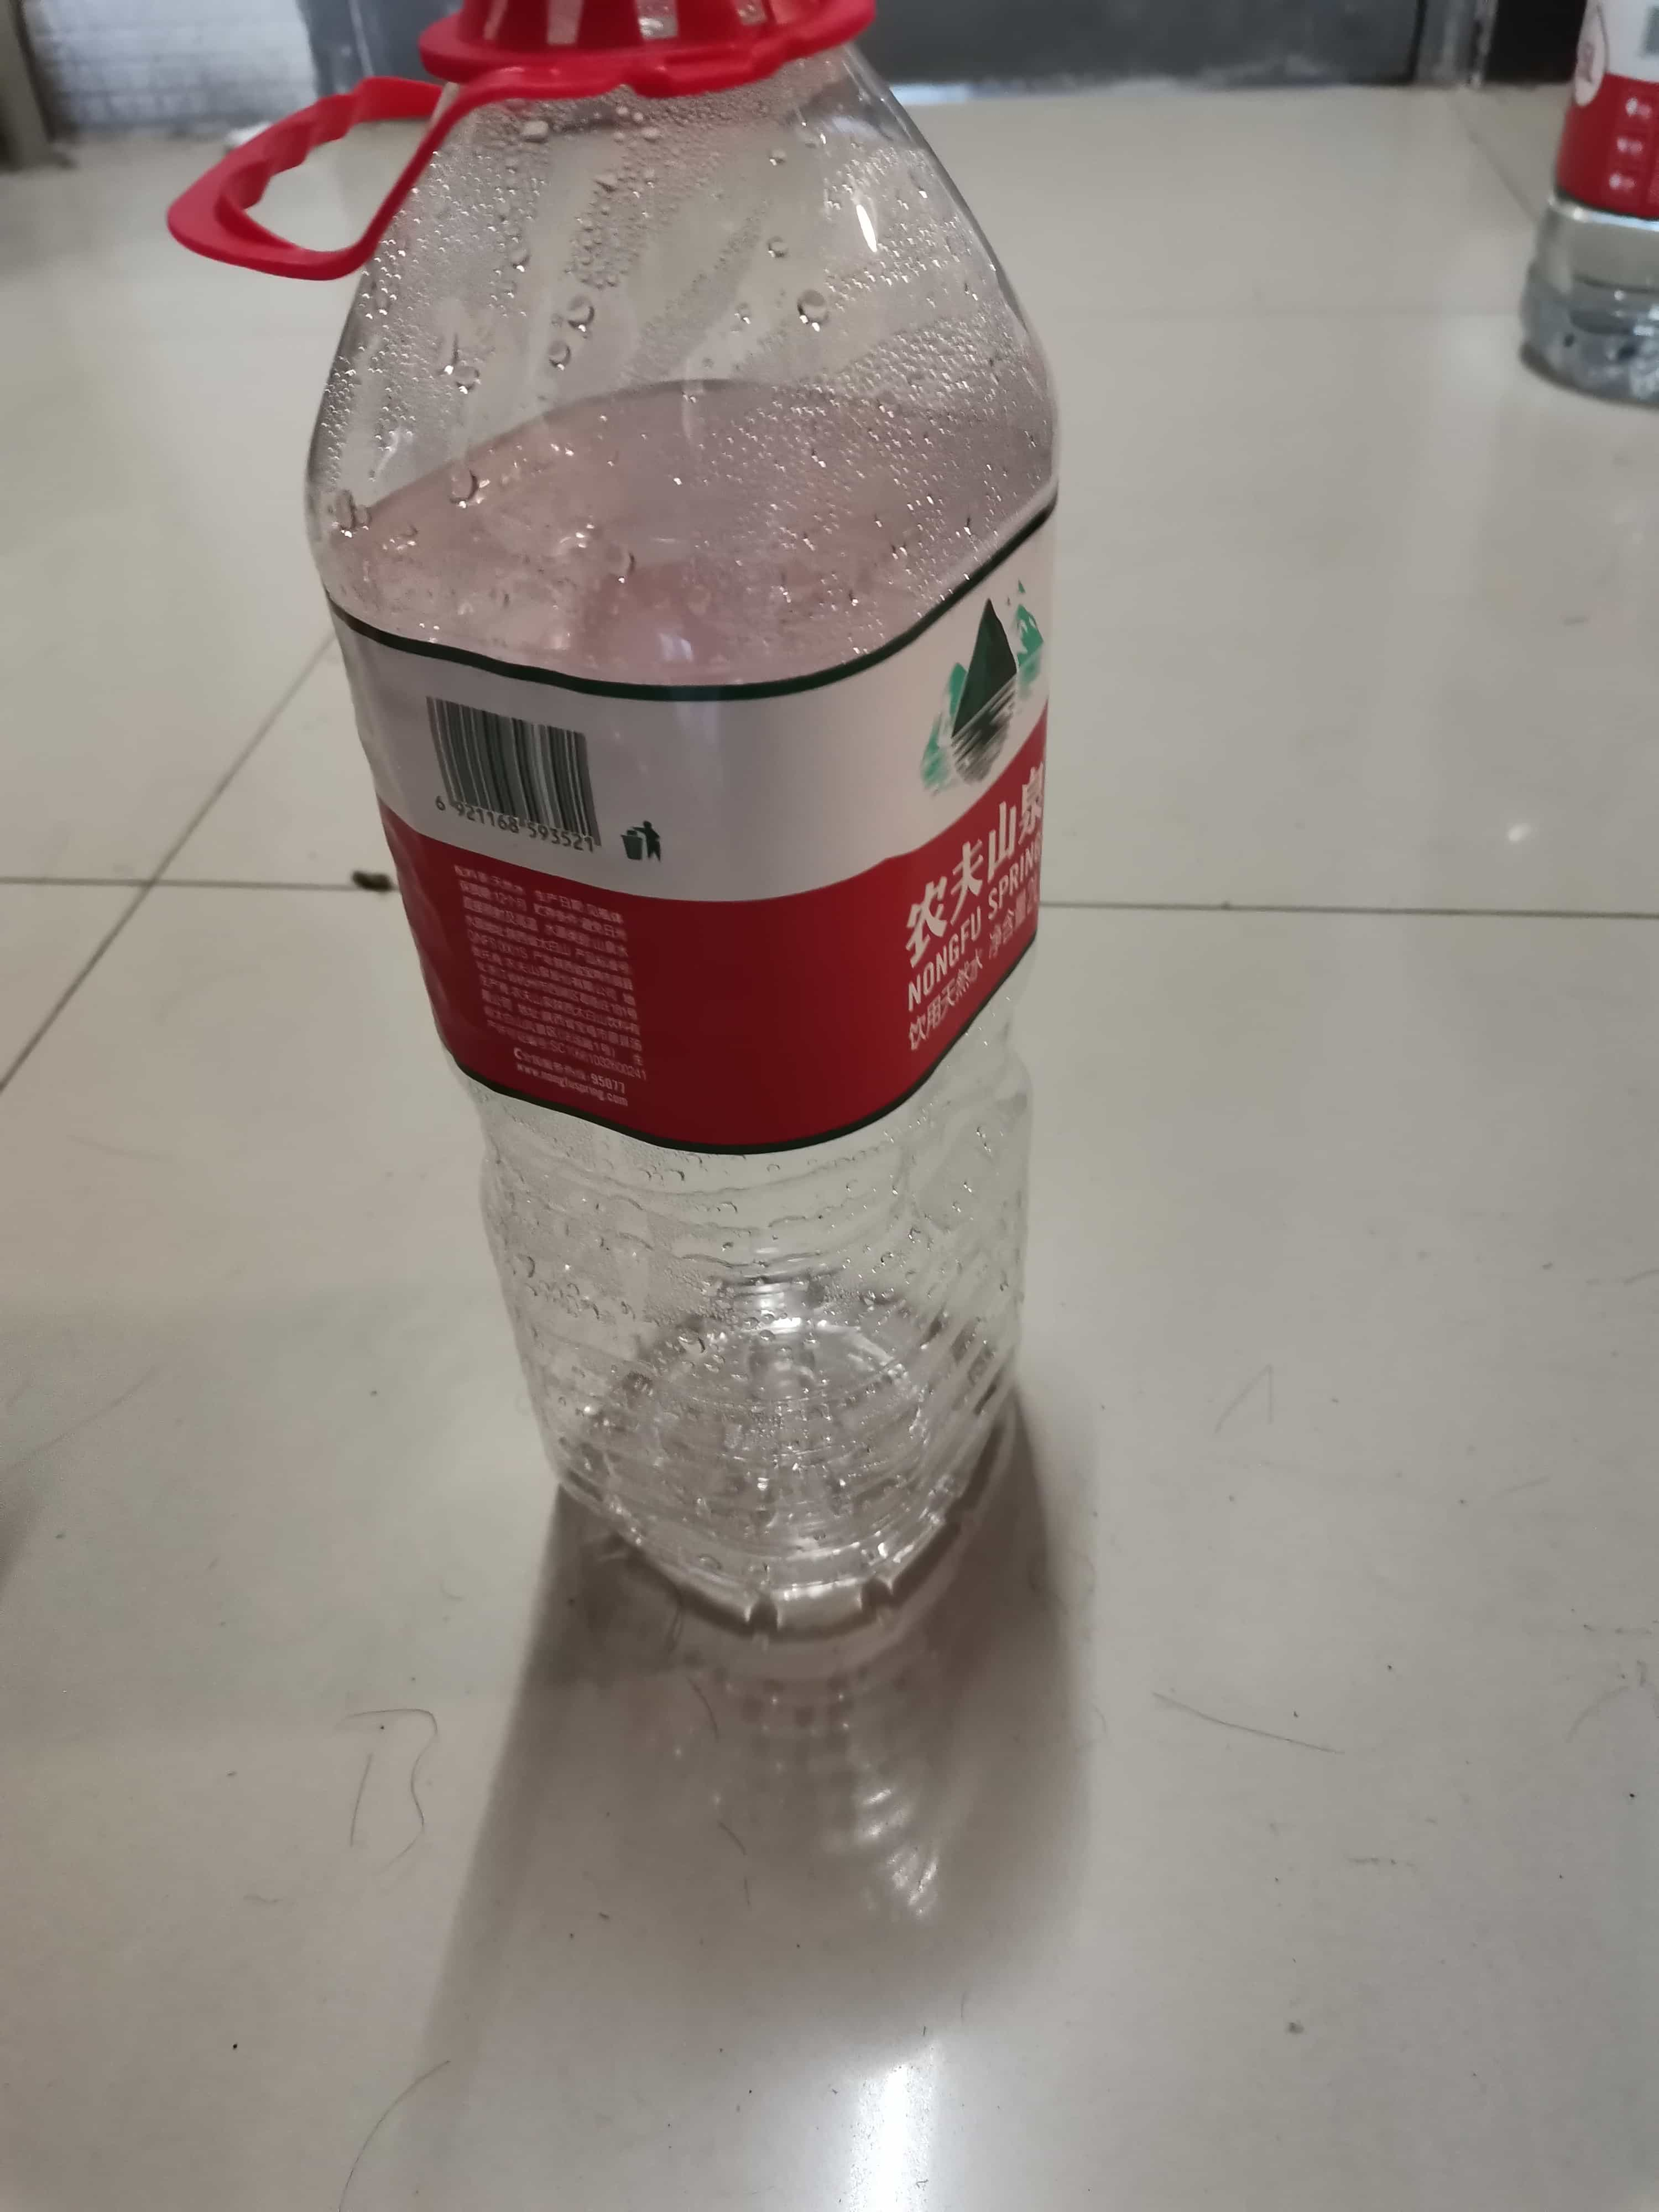plastic_bottle: (145, 19, 1082, 1662)
